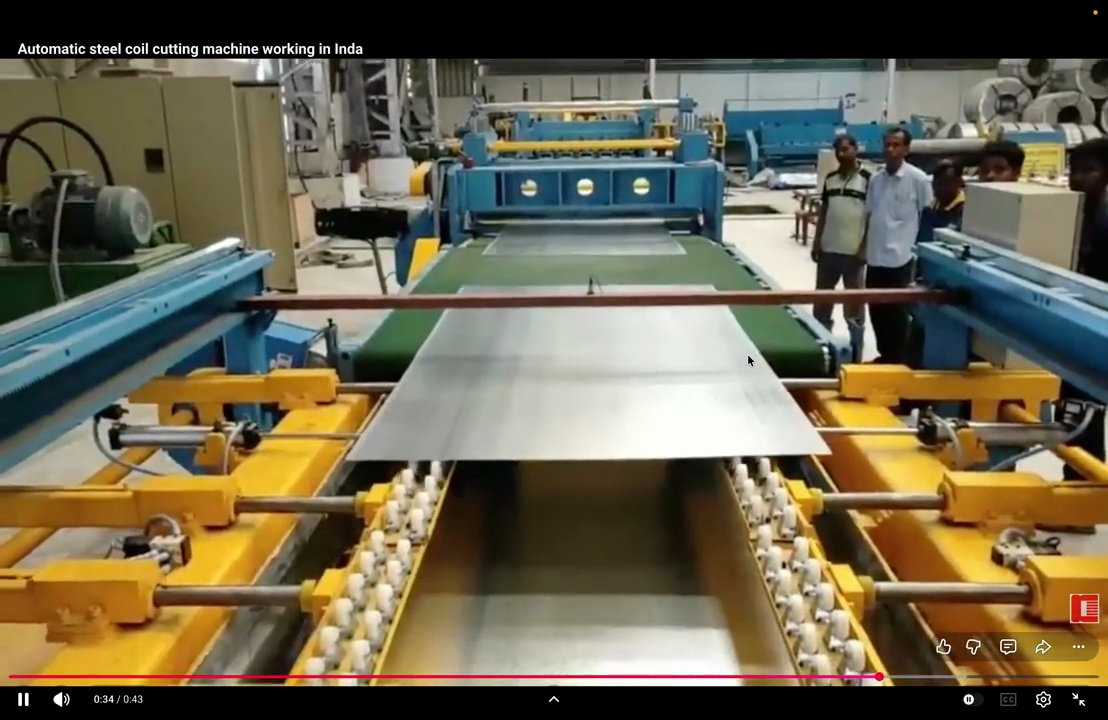steel plate: (349, 307, 827, 460), (483, 223, 684, 255)
